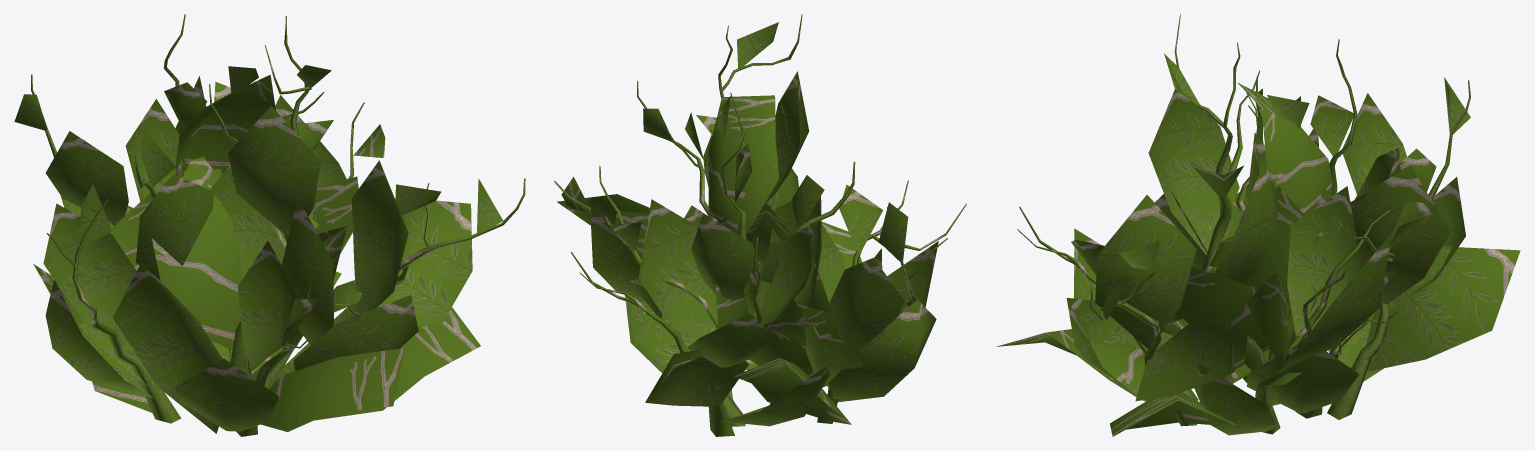
3 views of the same model, side by side, from view 1: azimuth 30°, elevation 25°; view 2: azimuth 150°, elevation 25°; view 3: azimuth 270°, elevation 25° (orthographic). The views are drawn at different scales.
Visible parts, largest first — view 1: Lobby_Tree_Drybush01A_PM_YCY; view 2: Lobby_Tree_Drybush01A_PM_YCY; view 3: Lobby_Tree_Drybush01A_PM_YCY.
Part boxes in pixels (x1,y1,x2,y2): Lobby_Tree_Drybush01A_PM_YCY: (14,14,525,436); Lobby_Tree_Drybush01A_PM_YCY: (554,14,966,436); Lobby_Tree_Drybush01A_PM_YCY: (996,14,1520,436).
Bounding box in the file's own units: 0.9075 × 0.8052 × 0.9604.
1 material, 1 textured.
